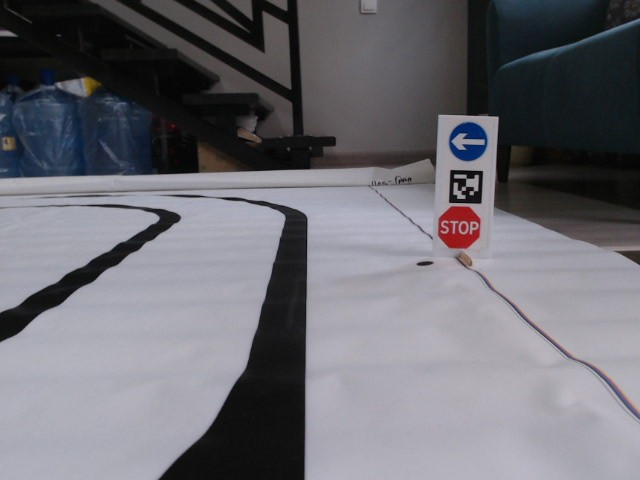Stop: (436, 204, 482, 252)
